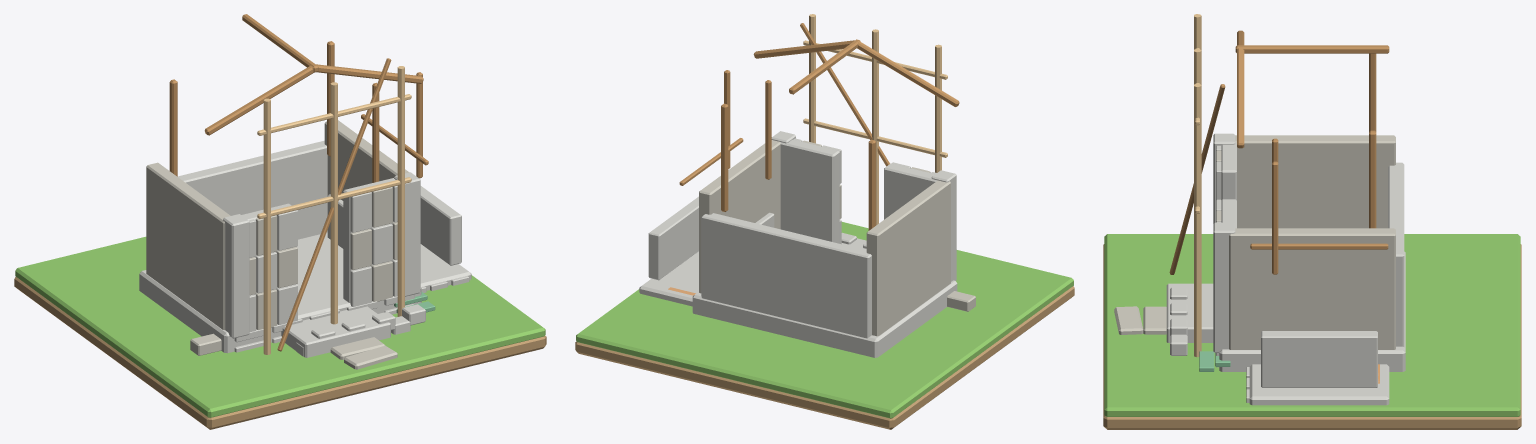
File: stone_house_l05_construction.glb
The picture shows the model from 3 angles, left to right: view 1: azimuth 30°, elevation 25°; view 2: azimuth 150°, elevation 25°; view 3: azimuth 270°, elevation 25°; orthographic projection. The views are drawn at different scales.
Visible parts, largest first — view 1: stone_house_component_pilot_grass_tile.001, pilot_stone_house_l05_side_wall_-1, pilot_stone_house_l05_rear_wall, stone_house_component_pilot_earth_tile.001, pilot_stone_house_l05_foundation_stone_block_medium_medium_f, pilot_stone_house_l05_partial_corner_pier_-1, pilot_stone_house_l05_porch_footing, pilot_stone_house_l05_annex_partial_side_1, pilot_stone_house_l05_side_wall_1, pilot_stone_house_l05_scaffold_scaffold_post_-0.7, pilot_stone_house_l05_scaffold_scaffold_post_0.7, pilot_stone_house_l05_partial_corner_pier_1 (+28 smaller); view 2: stone_house_component_pilot_grass_tile.001, pilot_stone_house_l05_rear_wall, pilot_stone_house_l05_side_wall_-1, stone_house_component_pilot_earth_tile.001, pilot_stone_house_l05_front_wall_1, pilot_stone_house_l05_foundation_stone_block_medium_medium_f, pilot_stone_house_l05_side_wall_1, pilot_stone_house_l05_annex_partial_side_1, pilot_stone_house_l05_front_wall_-1, pilot_stone_house_l05_annex_foundation_stone_block_low_thin_, pilot_stone_house_l05_scaffold_scaffold_post_0.0, pilot_stone_house_l05_roof_rafter_-1 (+12 smaller); view 3: stone_house_component_pilot_grass_tile.001, pilot_stone_house_l05_side_wall_1, pilot_stone_house_l05_side_wall_-1, pilot_stone_house_l05_annex_partial_side_1, stone_house_component_pilot_earth_tile.001, pilot_stone_house_l05_annex_foundation_stone_block_low_thin_, pilot_stone_house_l05_rear_wall, pilot_stone_house_l05_partial_corner_pier_1, pilot_stone_house_l05_scaffold_scaffold_post_0.7, pilot_stone_house_l05_porch_footing, pilot_stone_house_l05_foundation_stone_block_medium_medium_f, pilot_stone_house_l05_ridge_beam (+10 smaller).
Boxes of the visible parts, x1,y1,x2,y2 form: stone_house_component_pilot_grass_tile.001: (15,236,545,417); pilot_stone_house_l05_side_wall_-1: (146,162,230,329); pilot_stone_house_l05_rear_wall: (177,140,327,239); stone_house_component_pilot_earth_tile.001: (14,277,546,429); pilot_stone_house_l05_foundation_stone_block_medium_medium_f: (139,232,421,353); pilot_stone_house_l05_partial_corner_pier_-1: (223,214,249,338); pilot_stone_house_l05_porch_footing: (281,306,390,357); pilot_stone_house_l05_annex_partial_side_1: (420,186,461,265); pilot_stone_house_l05_side_wall_1: (324,120,409,200); pilot_stone_house_l05_scaffold_scaffold_post_-0.7: (263,98,270,354); pilot_stone_house_l05_scaffold_scaffold_post_0.7: (397,66,404,316); pilot_stone_house_l05_partial_corner_pier_1: (394,172,420,296); stone_house_component_pilot_grass_tile.001: (576,222,1073,418); pilot_stone_house_l05_rear_wall: (701,213,871,338); pilot_stone_house_l05_side_wall_-1: (866,180,950,336); stone_house_component_pilot_earth_tile.001: (575,286,1074,429); pilot_stone_house_l05_front_wall_1: (780,139,839,243); pilot_stone_house_l05_foundation_stone_block_medium_medium_f: (692,280,957,357); pilot_stone_house_l05_side_wall_1: (699,140,780,293); pilot_stone_house_l05_annex_partial_side_1: (648,196,698,280); pilot_stone_house_l05_front_wall_-1: (884,163,937,219); pilot_stone_house_l05_annex_foundation_stone_block_low_thin_: (639,251,698,306); pilot_stone_house_l05_scaffold_scaffold_post_0.0: (872,29,878,225); pilot_stone_house_l05_roof_rafter_-1: (857,41,959,106); stone_house_component_pilot_grass_tile.001: (1104,234,1520,416); pilot_stone_house_l05_side_wall_1: (1229,228,1395,349); pilot_stone_house_l05_side_wall_-1: (1235,135,1395,228); pilot_stone_house_l05_annex_partial_side_1: (1261,331,1377,387); stone_house_component_pilot_earth_tile.001: (1103,244,1521,429); pilot_stone_house_l05_annex_foundation_stone_block_low_thin_: (1249,364,1389,405); pilot_stone_house_l05_rear_wall: (1388,162,1404,346); pilot_stone_house_l05_partial_corner_pier_1: (1213,222,1235,352); pilot_stone_house_l05_scaffold_scaffold_post_0.7: (1194,83,1201,357); pilot_stone_house_l05_porch_footing: (1166,283,1213,342); pilot_stone_house_l05_foundation_stone_block_medium_medium_f: (1219,251,1405,371); pilot_stone_house_l05_ridge_beam: (1235,45,1389,53).
Size of the model in its own units: 3.6 by 2.82 by 3.6.
